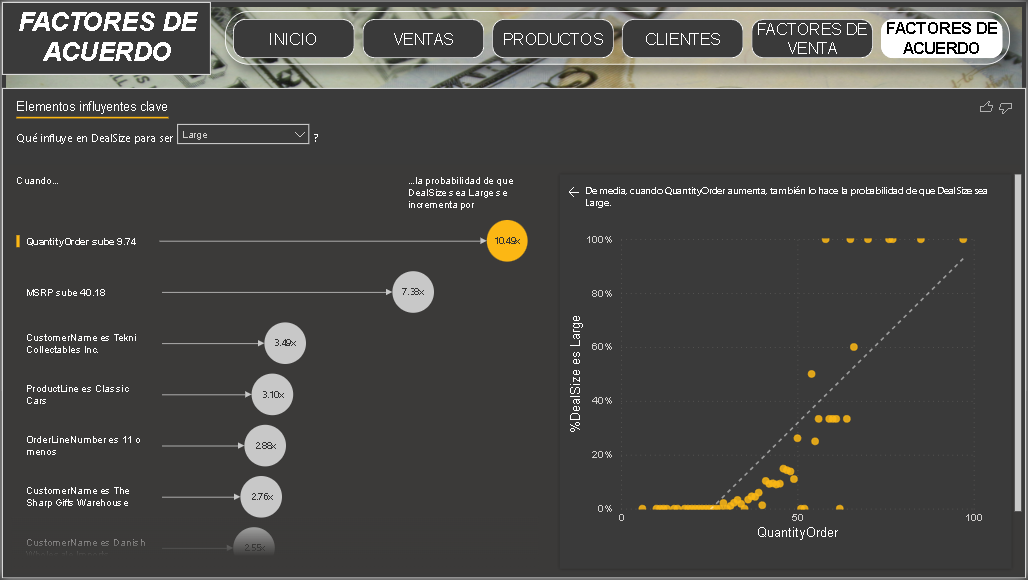

What the dashboard file says about the page in this screenshot:
{"tool":"powerbi","page":{"name":"FACTORES DE ACUERDO","canvas":[1280,720],"ordinal":5},"visuals":[{"type":"image","box":[0,1.5,1280,718.9],"z":0},{"type":"pageNavigator","box":[278.5,11.8,981.5,67],"z":1000},{"type":"textbox","box":[0,0,261,91.1],"z":2000},{"type":"keyDriversVisual","fields":{"ExplainBy":["CUSTOMERS.CustomerName","PRODUCTS.MSRP","PRODUCTS.ProductLine","ORDERS.QuantityOrder","LOCATIONS.Territory","LOCATIONS.Country","_MEDIDAS.TOTAL_ORDENES","ORDERS.OrderLineNumber"],"Target":["ORDERS.DealSize"]},"box":[0,107.1,1280,612.9],"z":4000}]}

Visuals, with their boxes in screenshot pixels (x1, y1, x2, y2), scaled from the page's 1280x720 canvas onto the 1028x580 screenshot:
image: rect(0, 1, 1027, 579)
pageNavigator: rect(224, 10, 1012, 63)
textbox: rect(0, 0, 210, 73)
keyDriversVisual - CUSTOMERS.CustomerName x PRODUCTS.MSRP: rect(0, 86, 1027, 579)
